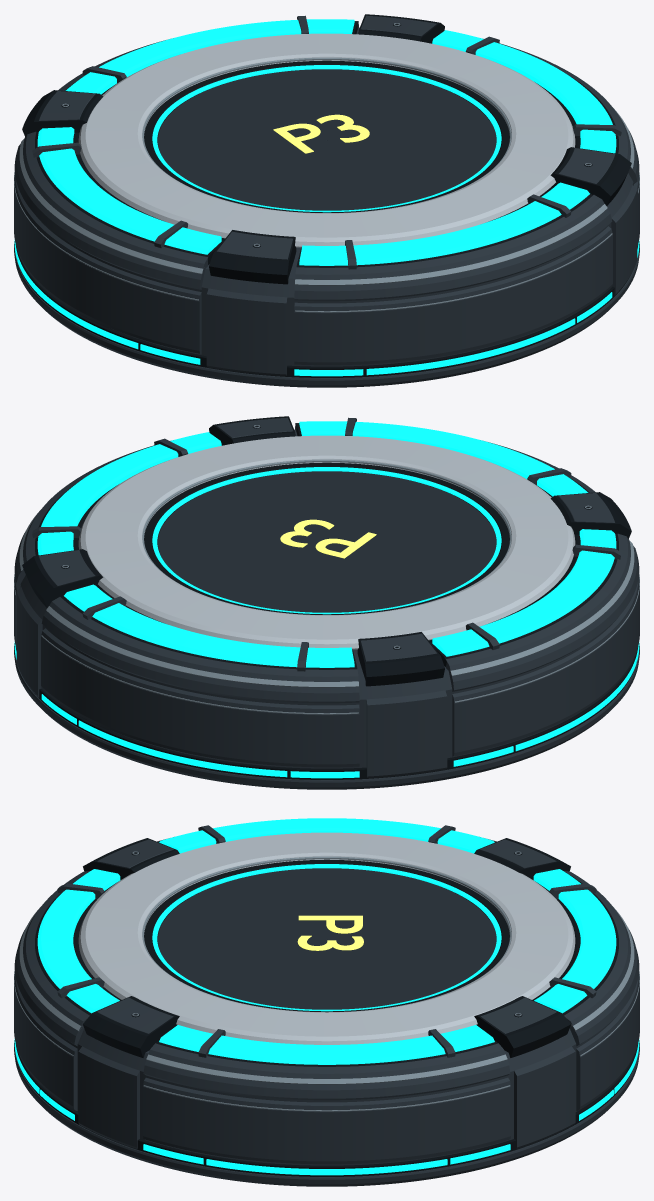
The model's file is Standard.fbx.
3 renders of one model, top to bottom at view 1: azimuth 30°, elevation 25°; view 2: azimuth 150°, elevation 25°; view 3: azimuth 270°, elevation 25°, orthographic.
Visible parts, largest first — view 1: SM_Puck_Standard_P3_HighDetail; view 2: SM_Puck_Standard_P3_HighDetail; view 3: SM_Puck_Standard_P3_HighDetail.
Boxes of the visible parts, left/top/right/bottom form: SM_Puck_Standard_P3_HighDetail: left=14, top=14, right=639, bottom=387; SM_Puck_Standard_P3_HighDetail: left=14, top=416, right=639, bottom=789; SM_Puck_Standard_P3_HighDetail: left=14, top=818, right=639, bottom=1186.
Bounding box in the file's own units: 90 × 90 × 20.
